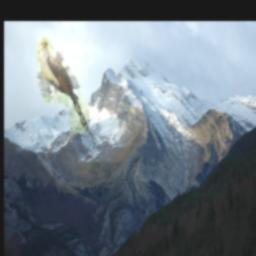Cuckoo: (36, 36, 89, 132)
